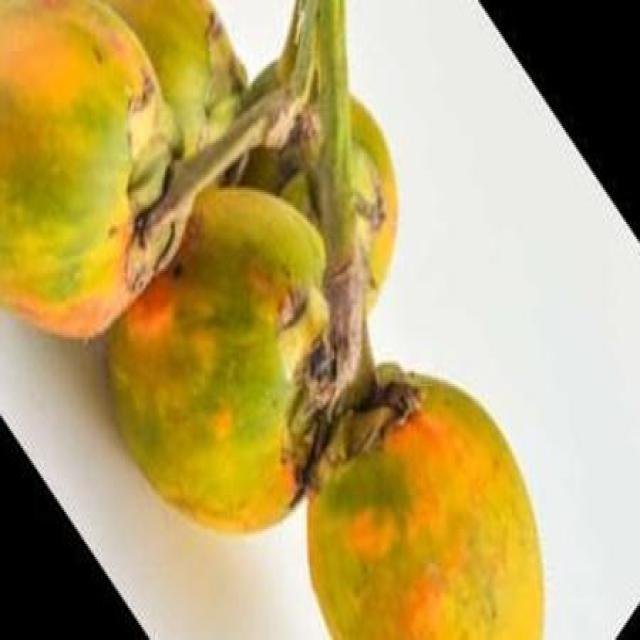good: (0, 0, 329, 343), (104, 188, 374, 538), (307, 378, 545, 638)
